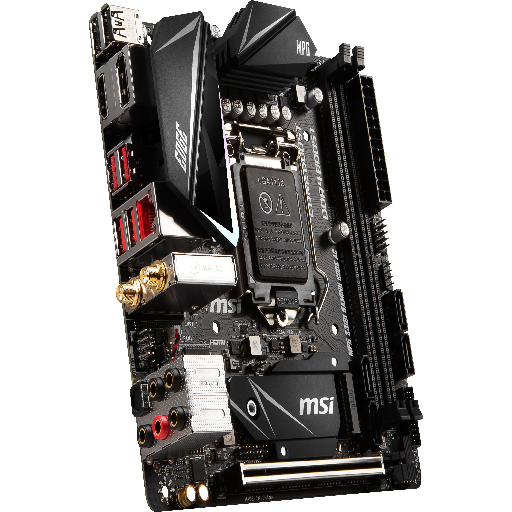CPU: (222, 117, 320, 323)
GPU: (210, 451, 387, 495)
MOTHERBOARD: (91, 1, 423, 505)
RAM: (309, 41, 420, 439)
